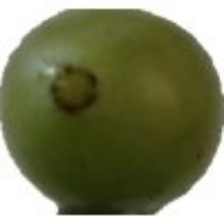grapes: (51, 40, 206, 183)
